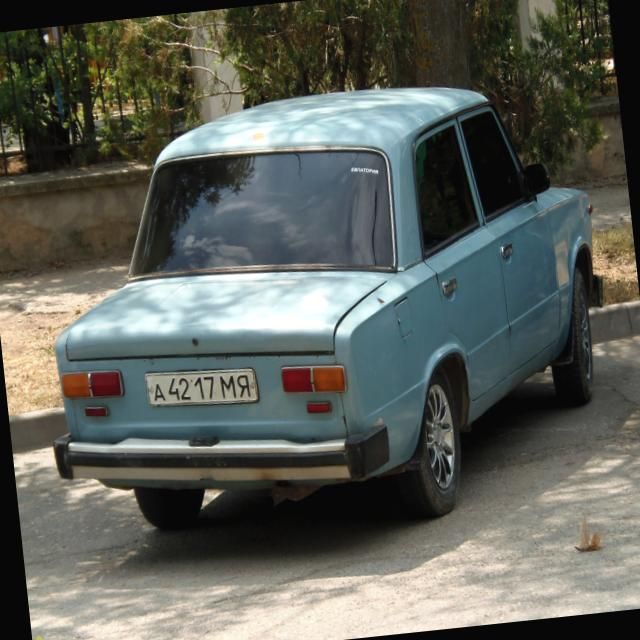number-plates: (143, 360, 260, 417)
